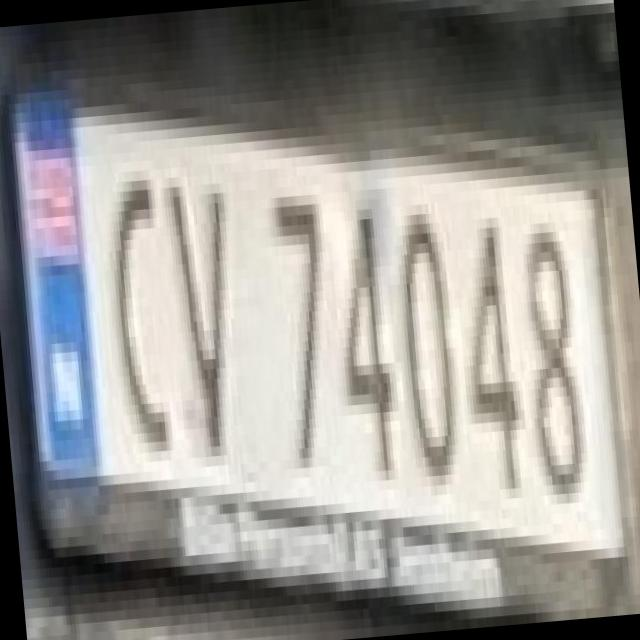0: (379, 183, 467, 478)
4: (316, 178, 406, 474), (447, 197, 528, 492)
7: (252, 174, 346, 470)
8: (496, 201, 596, 497)
C: (91, 159, 182, 455)
V: (154, 153, 248, 450)
